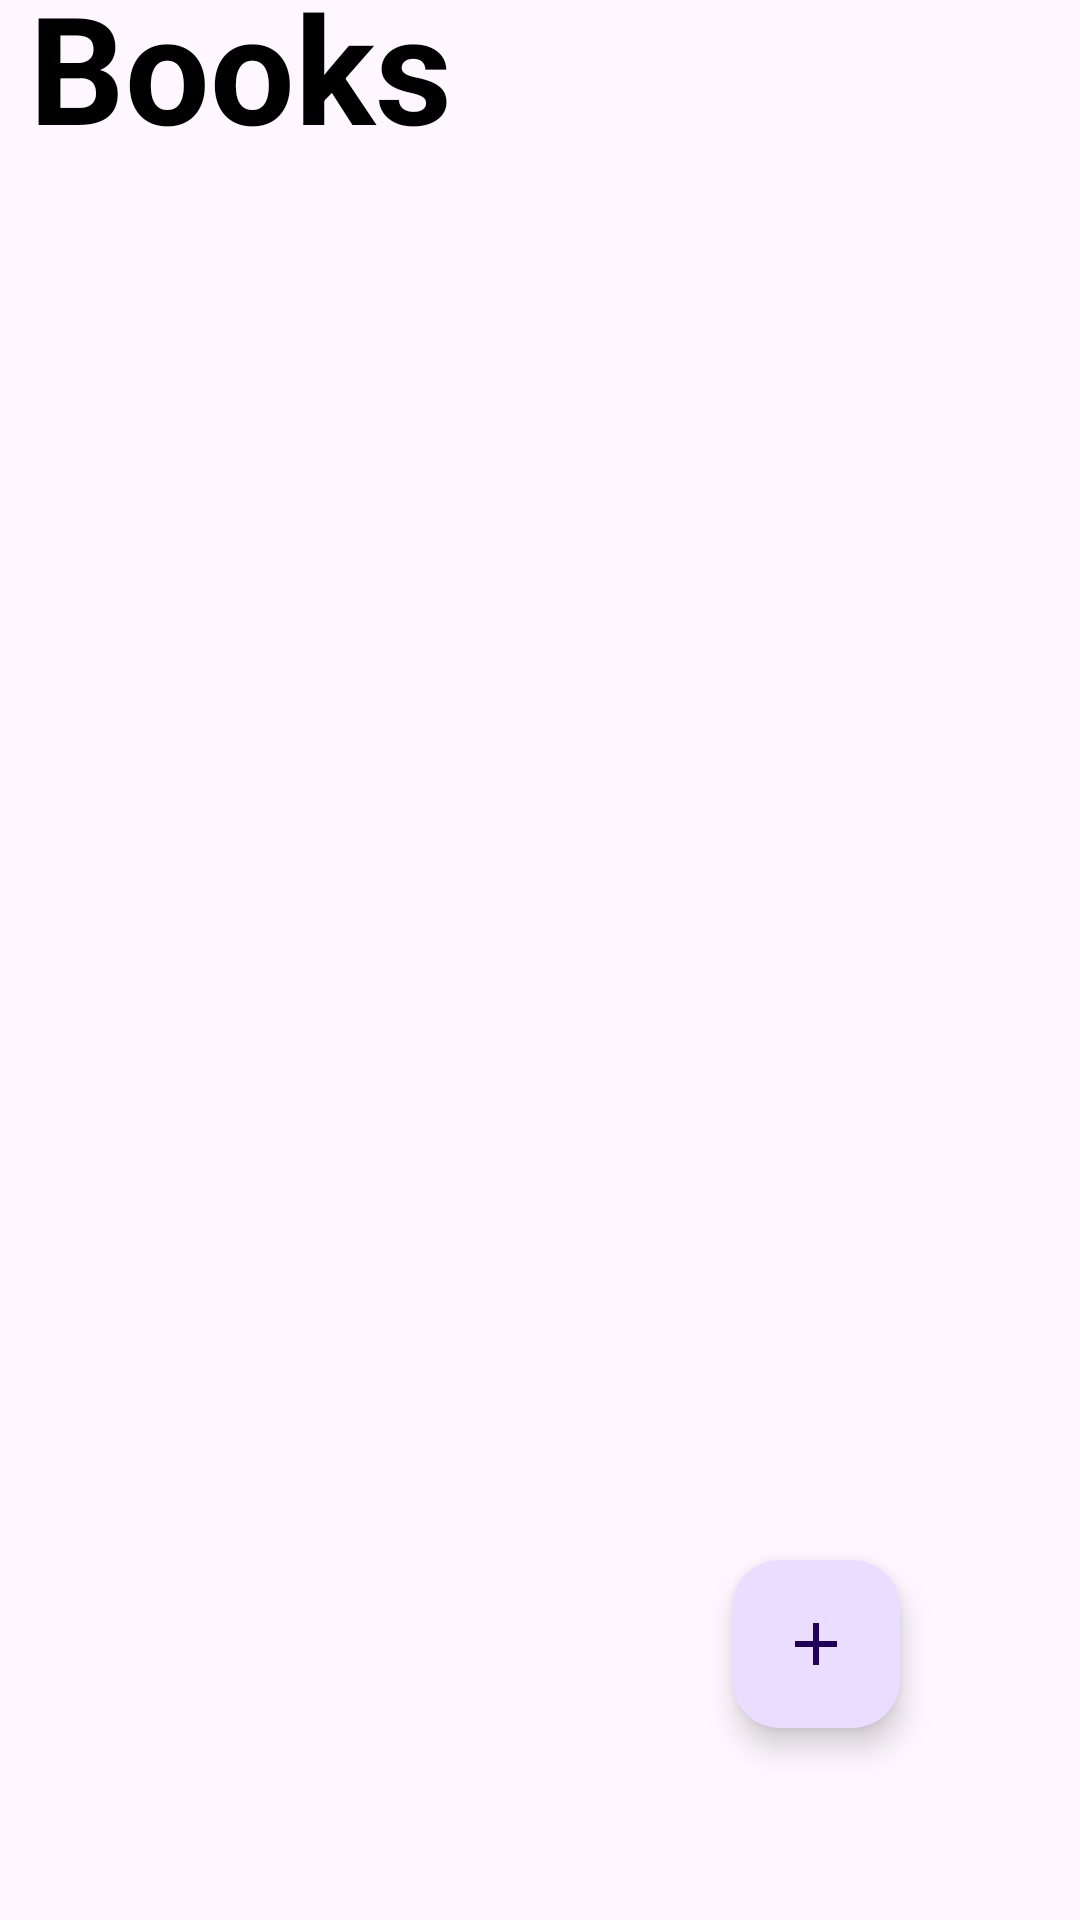

Locate icon controls on the screen. Image size 1080*1920, boxes as (x1, y1, x2, y2).
add: (732, 1560, 900, 1728)
